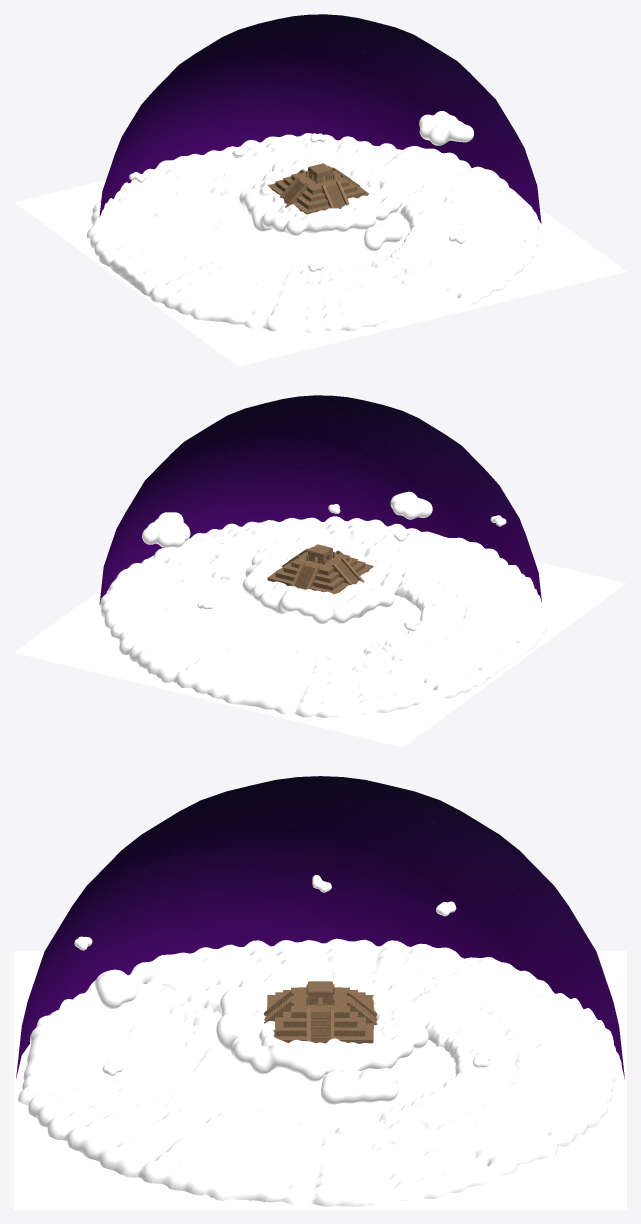
Rendered from cloudAztec.glb.
The picture shows the model from 3 angles, top to bottom: view 1: azimuth 30°, elevation 25°; view 2: azimuth 150°, elevation 25°; view 3: azimuth 270°, elevation 25°; orthographic projection. The views are drawn at different scales.
Parts seen in each view (by area): view 1: Mball.001, Sphere, floor.001, Mball.990, cube; view 2: Mball.001, Sphere, floor.001, Mball.990, cube; view 3: Mball.001, Sphere, floor.001, Mball.990, cube, Cube.001.
Part boxes in pixels (x1,y1,x2,y2): Mball.001: [86, 133, 538, 333]; Sphere: [99, 14, 541, 223]; floor.001: [14, 145, 626, 366]; Mball.990: [129, 111, 473, 271]; cube: [267, 166, 368, 214]; Mball.001: [100, 516, 551, 717]; Sphere: [99, 395, 541, 604]; floor.001: [14, 555, 626, 747]; Mball.990: [142, 491, 506, 631]; cube: [267, 547, 373, 594]; Mball.001: [18, 938, 621, 1206]; Sphere: [16, 776, 624, 1078]; floor.001: [14, 951, 626, 1209]; Mball.990: [74, 875, 489, 1104]; cube: [263, 984, 377, 1043]; Cube.001: [307, 981, 333, 1005].
Size of what is drawn, in the model's own units: 192 by 98.02 by 192.
5 materials, 3 textured.
